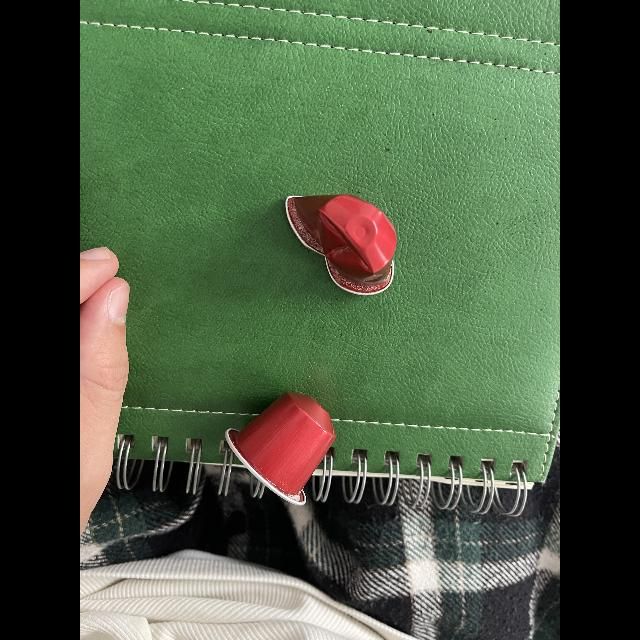damaged_capsule: (280, 182, 416, 306)
intact_capsule: (224, 384, 340, 511)
